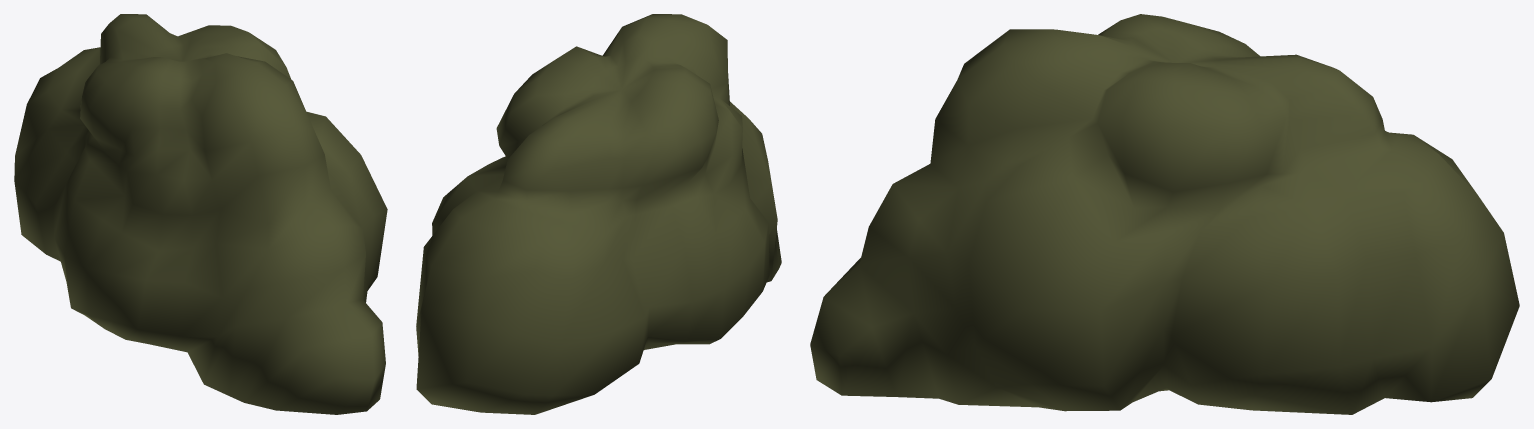
Rendered from arbusto_G03.fbx.
3 views of the same model, side by side, from view 1: azimuth 30°, elevation 25°; view 2: azimuth 150°, elevation 25°; view 3: azimuth 270°, elevation 25° (orthographic). The views are drawn at different scales.
Visible parts, largest first — view 1: arbusto_G_3; view 2: arbusto_G_3; view 3: arbusto_G_3.
Boxes of the visible parts, x1,y1,x2,y2 form: arbusto_G_3: (14,14,387,414); arbusto_G_3: (416,14,781,414); arbusto_G_3: (810,14,1519,414).
Size of the model in its own units: 1320 by 681 by 690.
